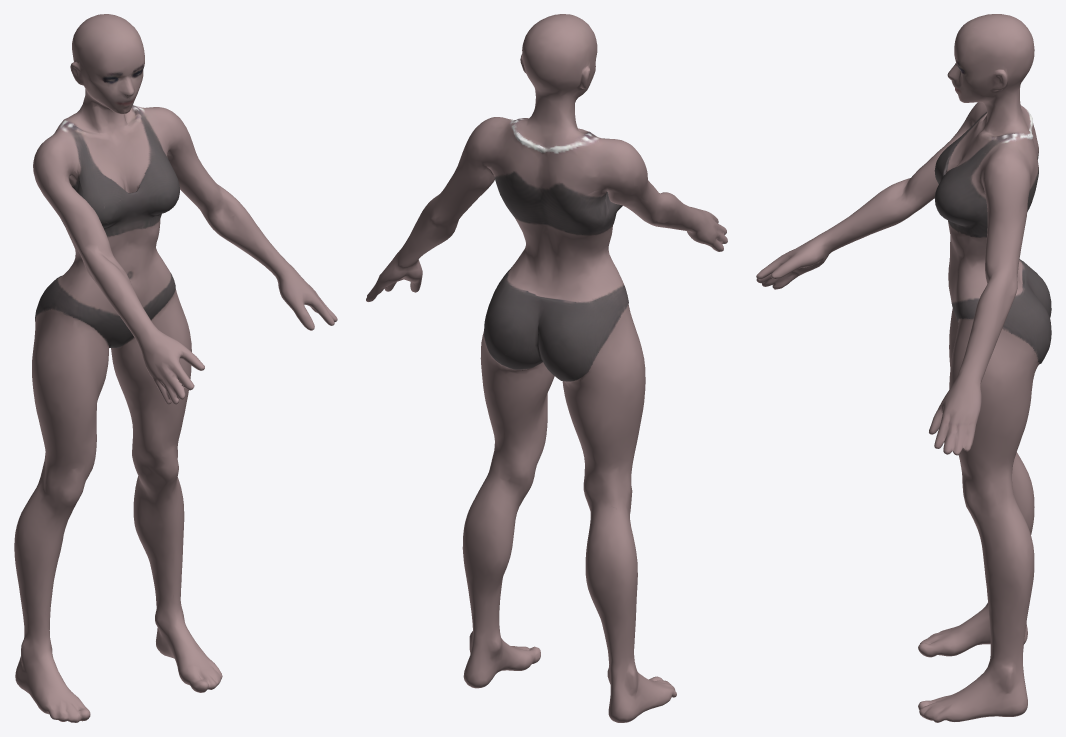
File: coordinated-UpperArmL-45.glb
3 views of the same model, side by side, from view 1: azimuth 30°, elevation 25°; view 2: azimuth 150°, elevation 25°; view 3: azimuth 270°, elevation 25° (orthographic). The views are drawn at different scales.
Visible parts, largest first — view 1: coordinated-UpperArmL-45; view 2: coordinated-UpperArmL-45; view 3: coordinated-UpperArmL-45.
Boxes of the visible parts, x1=… form: coordinated-UpperArmL-45: x1=14, y1=14, x2=337, y2=722; coordinated-UpperArmL-45: x1=366, y1=14, x2=727, y2=722; coordinated-UpperArmL-45: x1=756, y1=14, x2=1051, y2=722.
Bounding box in the file's own units: 0.4619 × 1 × 0.402.
Materials: 1 (1 with a texture image).
